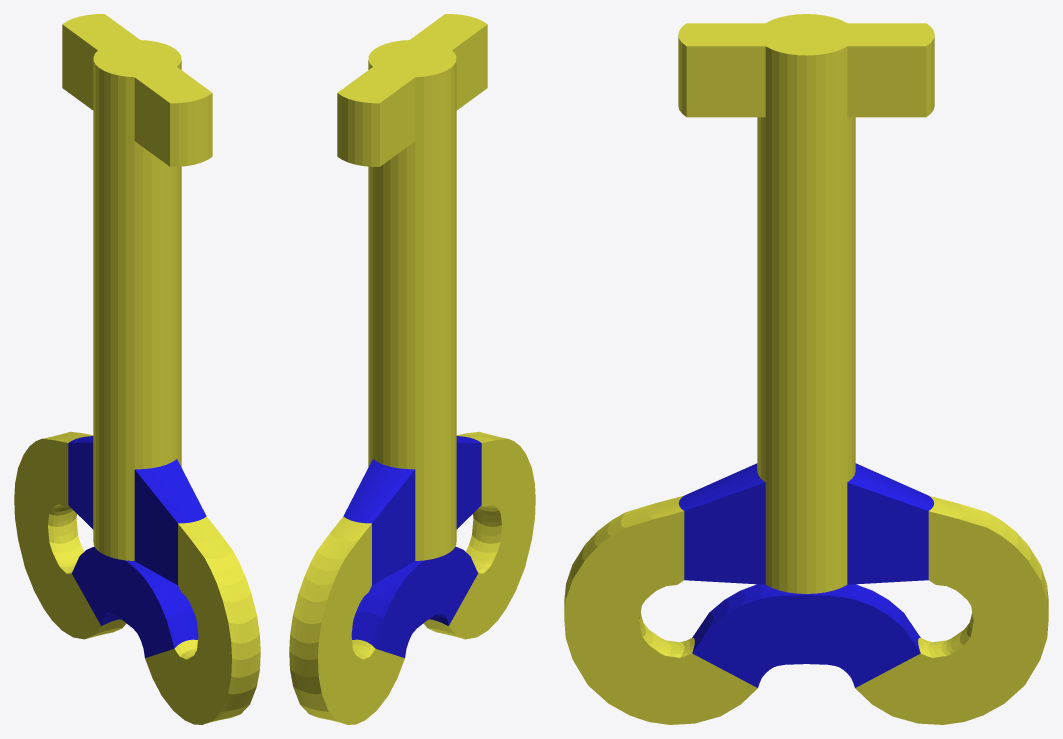
Rendered from BlueKey.fbx.
The picture shows the model from 3 angles, left to right: view 1: azimuth 30°, elevation 25°; view 2: azimuth 150°, elevation 25°; view 3: azimuth 270°, elevation 25°; orthographic projection. The views are drawn at different scales.
Parts seen in each view (by area): view 1: Cylinder.001; view 2: Cylinder.001; view 3: Cylinder.001.
Part boxes in pixels (<box>): Cylinder.001: <box>14,14,260,724</box>; Cylinder.001: <box>289,14,535,724</box>; Cylinder.001: <box>564,14,1048,724</box>.
Bounding box in the file's own units: 49.18 × 377 × 243.
